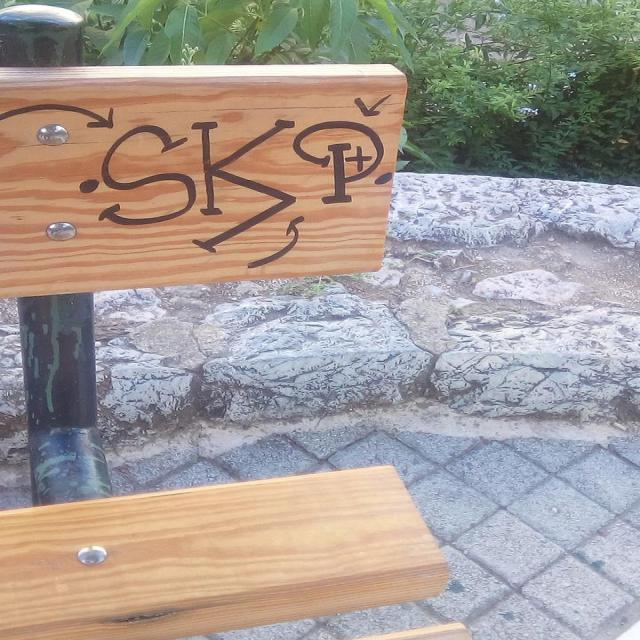nonspitting: (0, 97, 396, 268)
